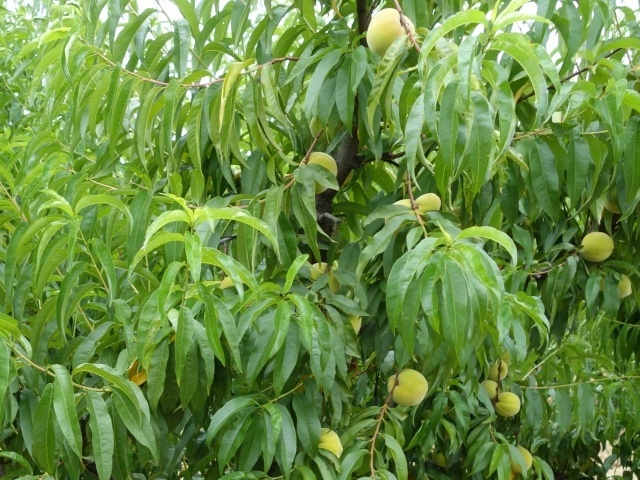peach: (365, 5, 416, 58), (297, 146, 342, 195), (385, 365, 430, 409), (580, 225, 616, 265), (313, 425, 345, 461), (412, 190, 445, 221), (505, 443, 536, 473), (494, 390, 526, 419), (614, 272, 637, 301), (478, 374, 500, 403), (485, 357, 510, 382)
